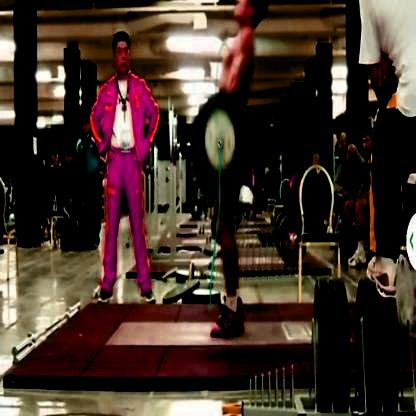Barbell: (217, 138, 224, 151)
